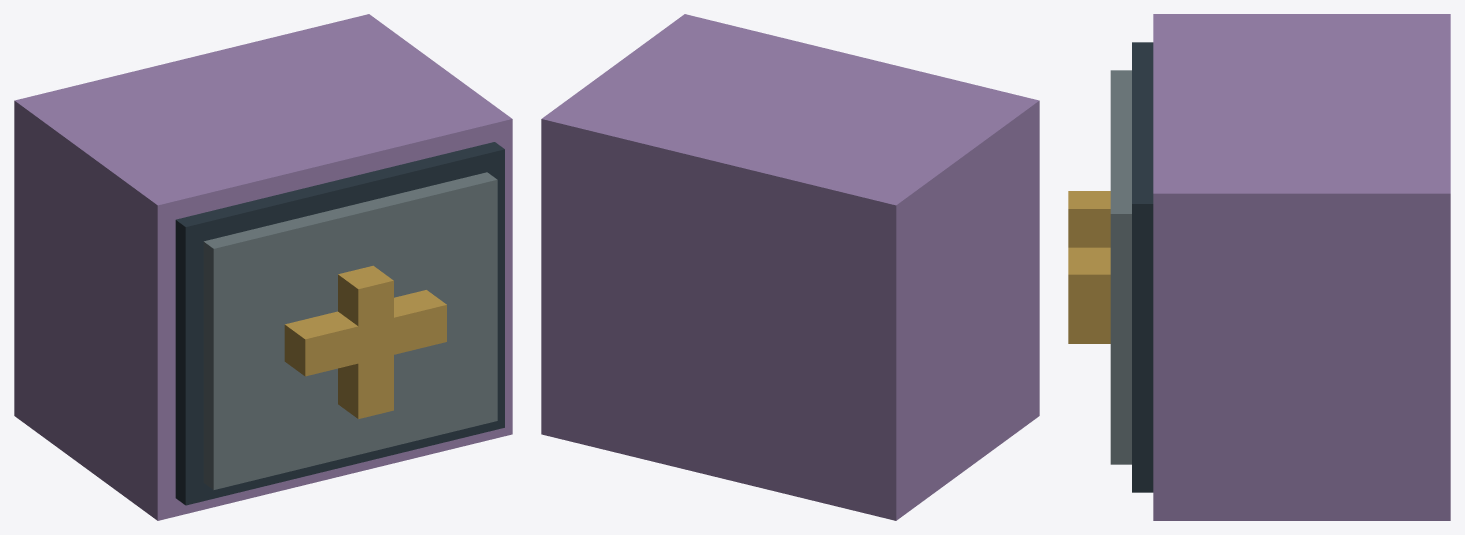
File: crypto-10.glb
3 views of the same model, side by side, from view 1: azimuth 30°, elevation 25°; view 2: azimuth 150°, elevation 25°; view 3: azimuth 270°, elevation 25° (orthographic). The views are drawn at different scales.
Parts seen in each view (by area): view 1: Key vault; view 2: Key vault; view 3: Key vault.
Part boxes in pixels (x1,y1,x2,y2): Key vault: [14, 14, 512, 520]; Key vault: [541, 14, 1039, 520]; Key vault: [1068, 14, 1450, 520].
Size of the model in its own units: 1.6 by 1.36 by 1.44.
